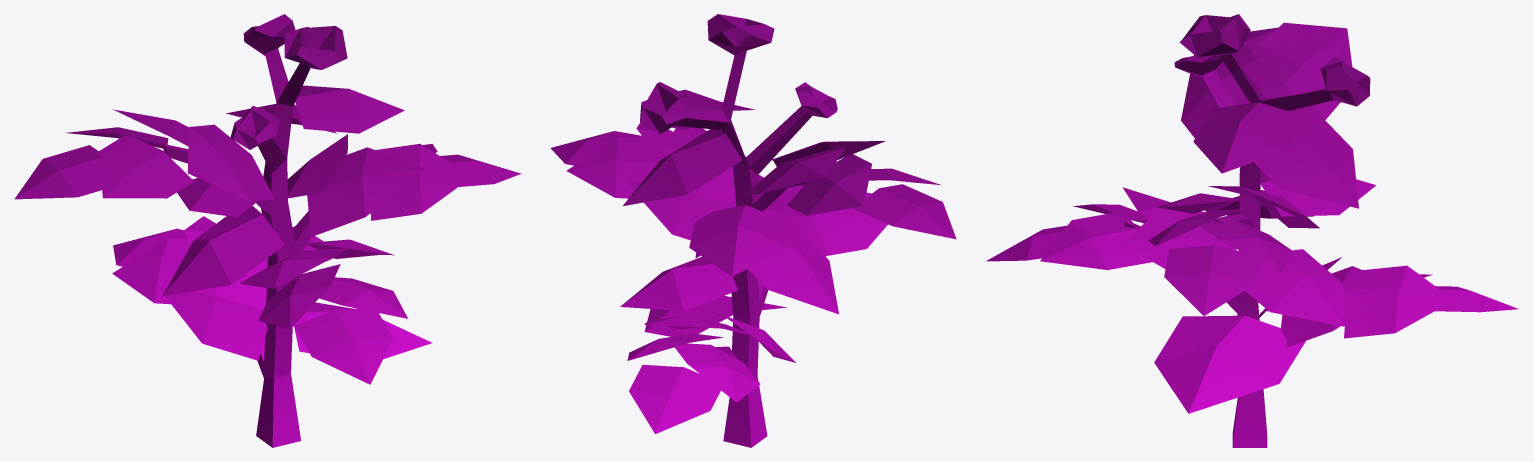
Rendered from SM_Prop_Plant_Potato_01_L.fbx.
The picture shows the model from 3 angles, left to right: view 1: azimuth 30°, elevation 25°; view 2: azimuth 150°, elevation 25°; view 3: azimuth 270°, elevation 25°; orthographic projection. The views are drawn at different scales.
Parts seen in each view (by area): view 1: SM_Prop_Plant_Potato_01_L; view 2: SM_Prop_Plant_Potato_01_L; view 3: SM_Prop_Plant_Potato_01_L.
Part boxes in pixels (x1,y1,x2,y2): SM_Prop_Plant_Potato_01_L: (14,14,521,447); SM_Prop_Plant_Potato_01_L: (550,14,956,447); SM_Prop_Plant_Potato_01_L: (986,14,1518,447).
Bounding box in the file's own units: 118 × 101 × 113.
